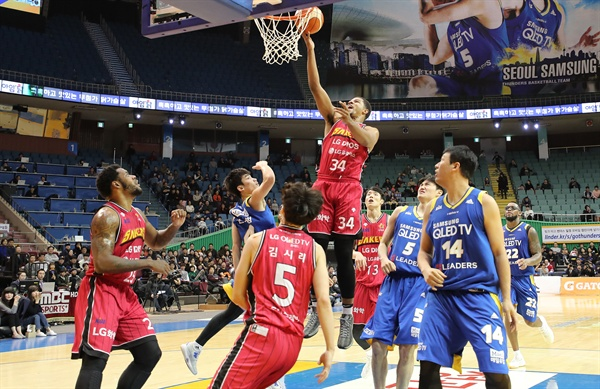shoot: (291, 1, 378, 349)
stand: (63, 152, 185, 389), (424, 135, 524, 389)
